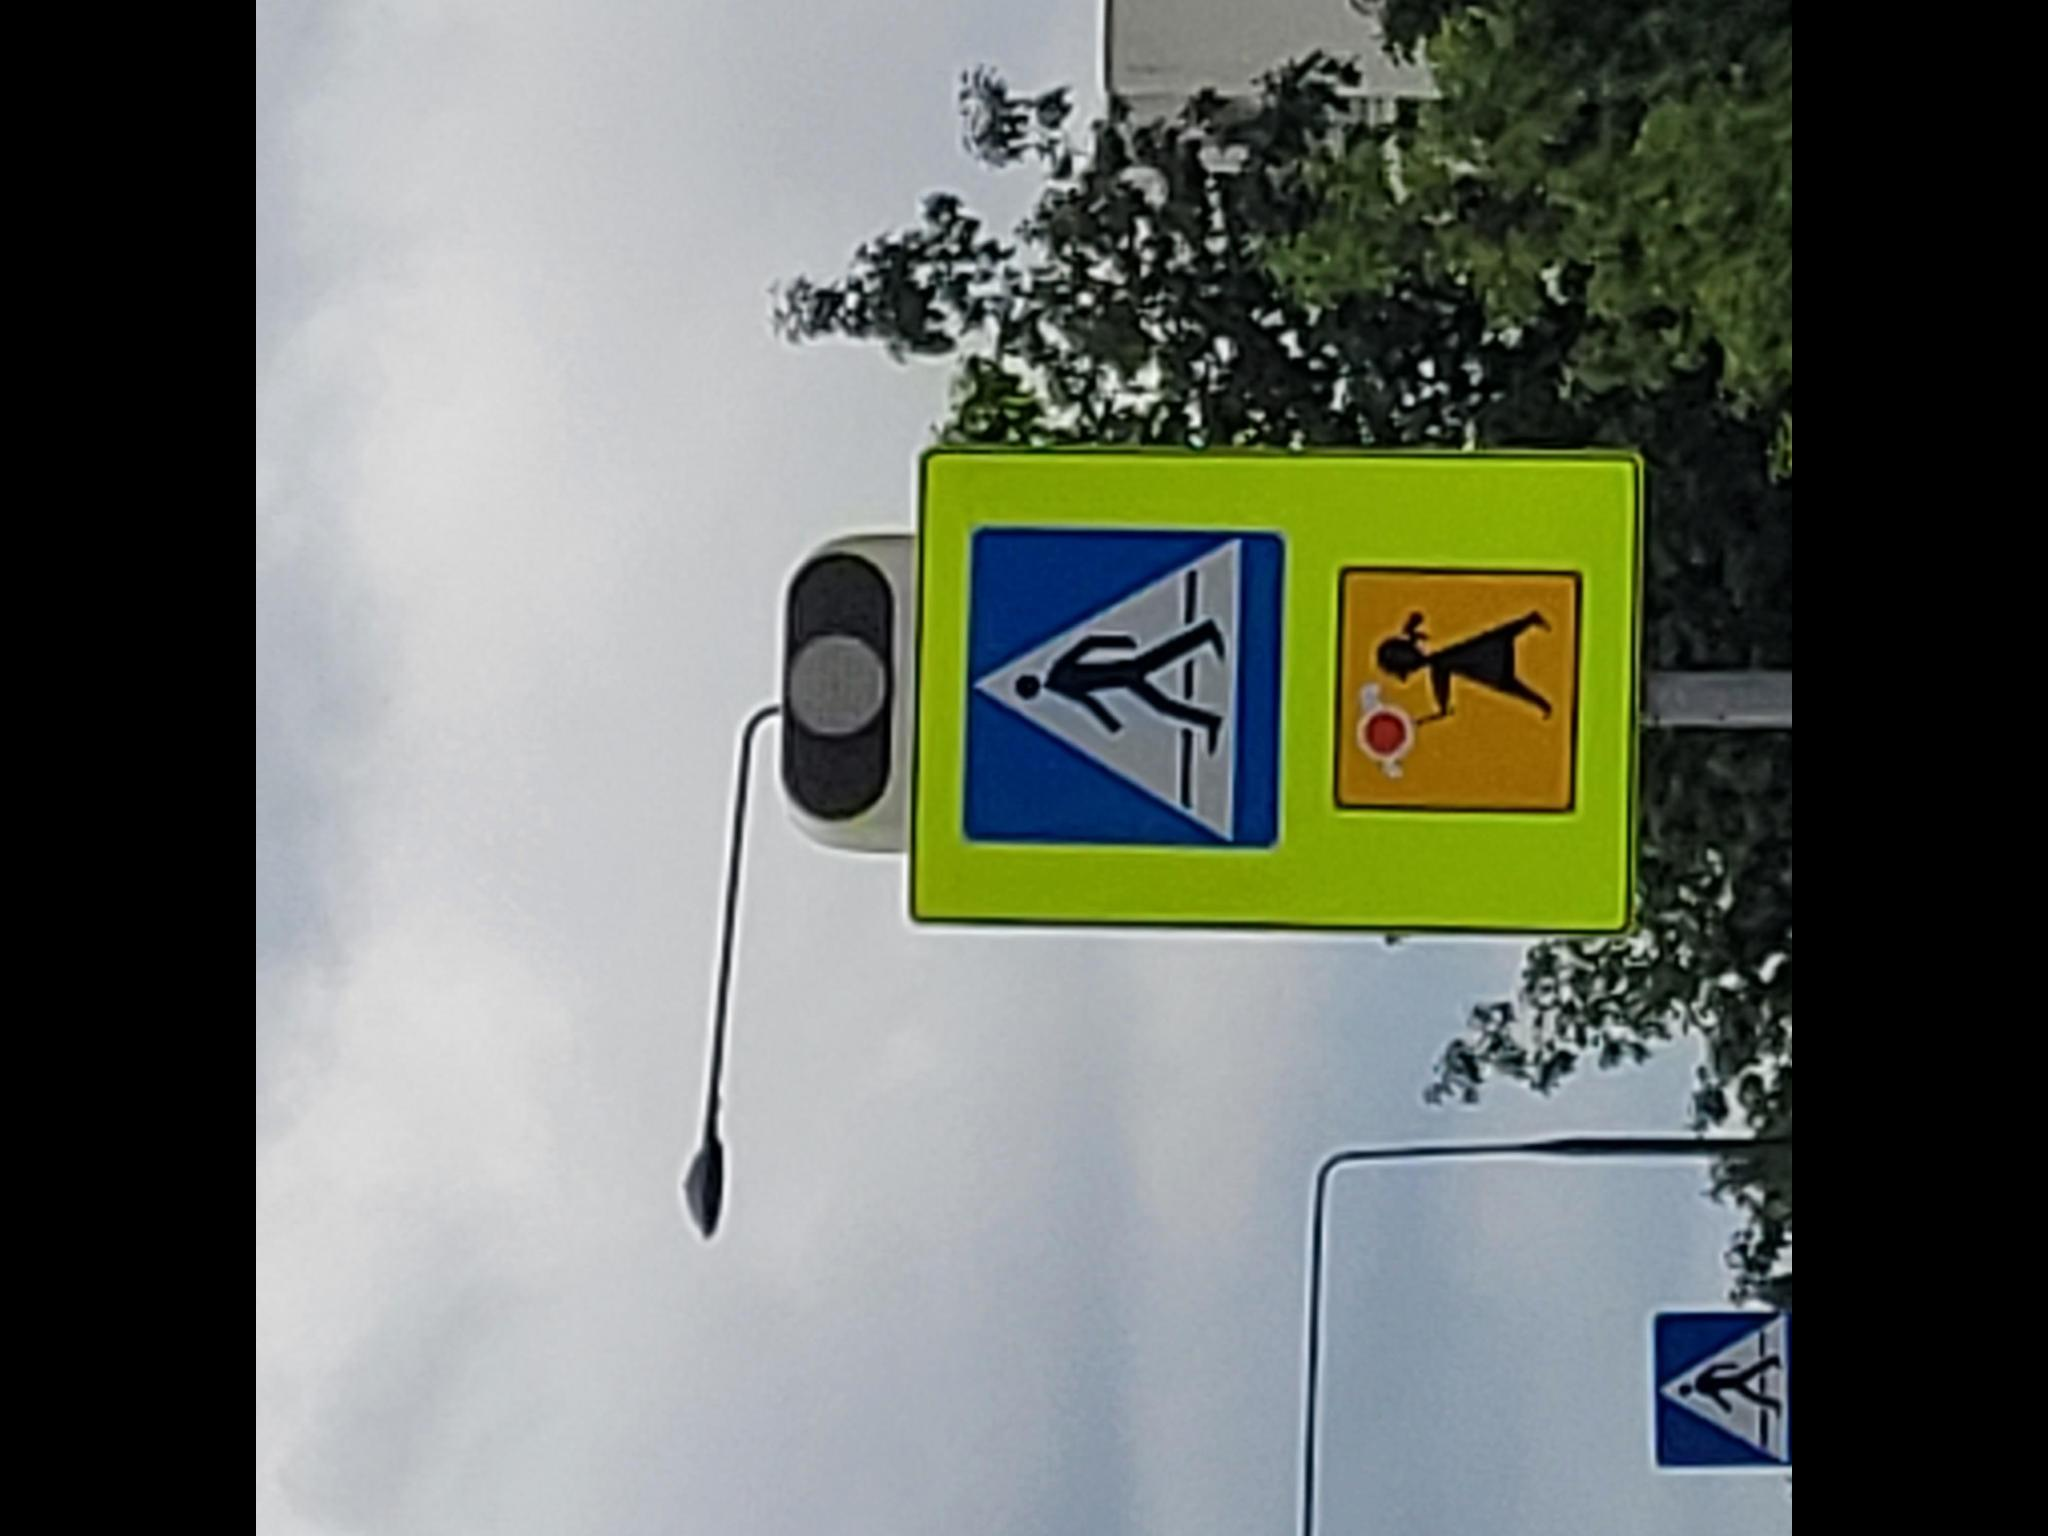information: (959, 524, 1287, 847), (1648, 1312, 1792, 1470)
other: (1330, 566, 1582, 812)
